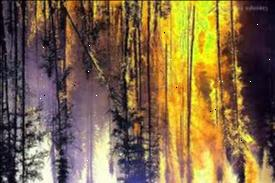fire: (146, 0, 255, 183)
